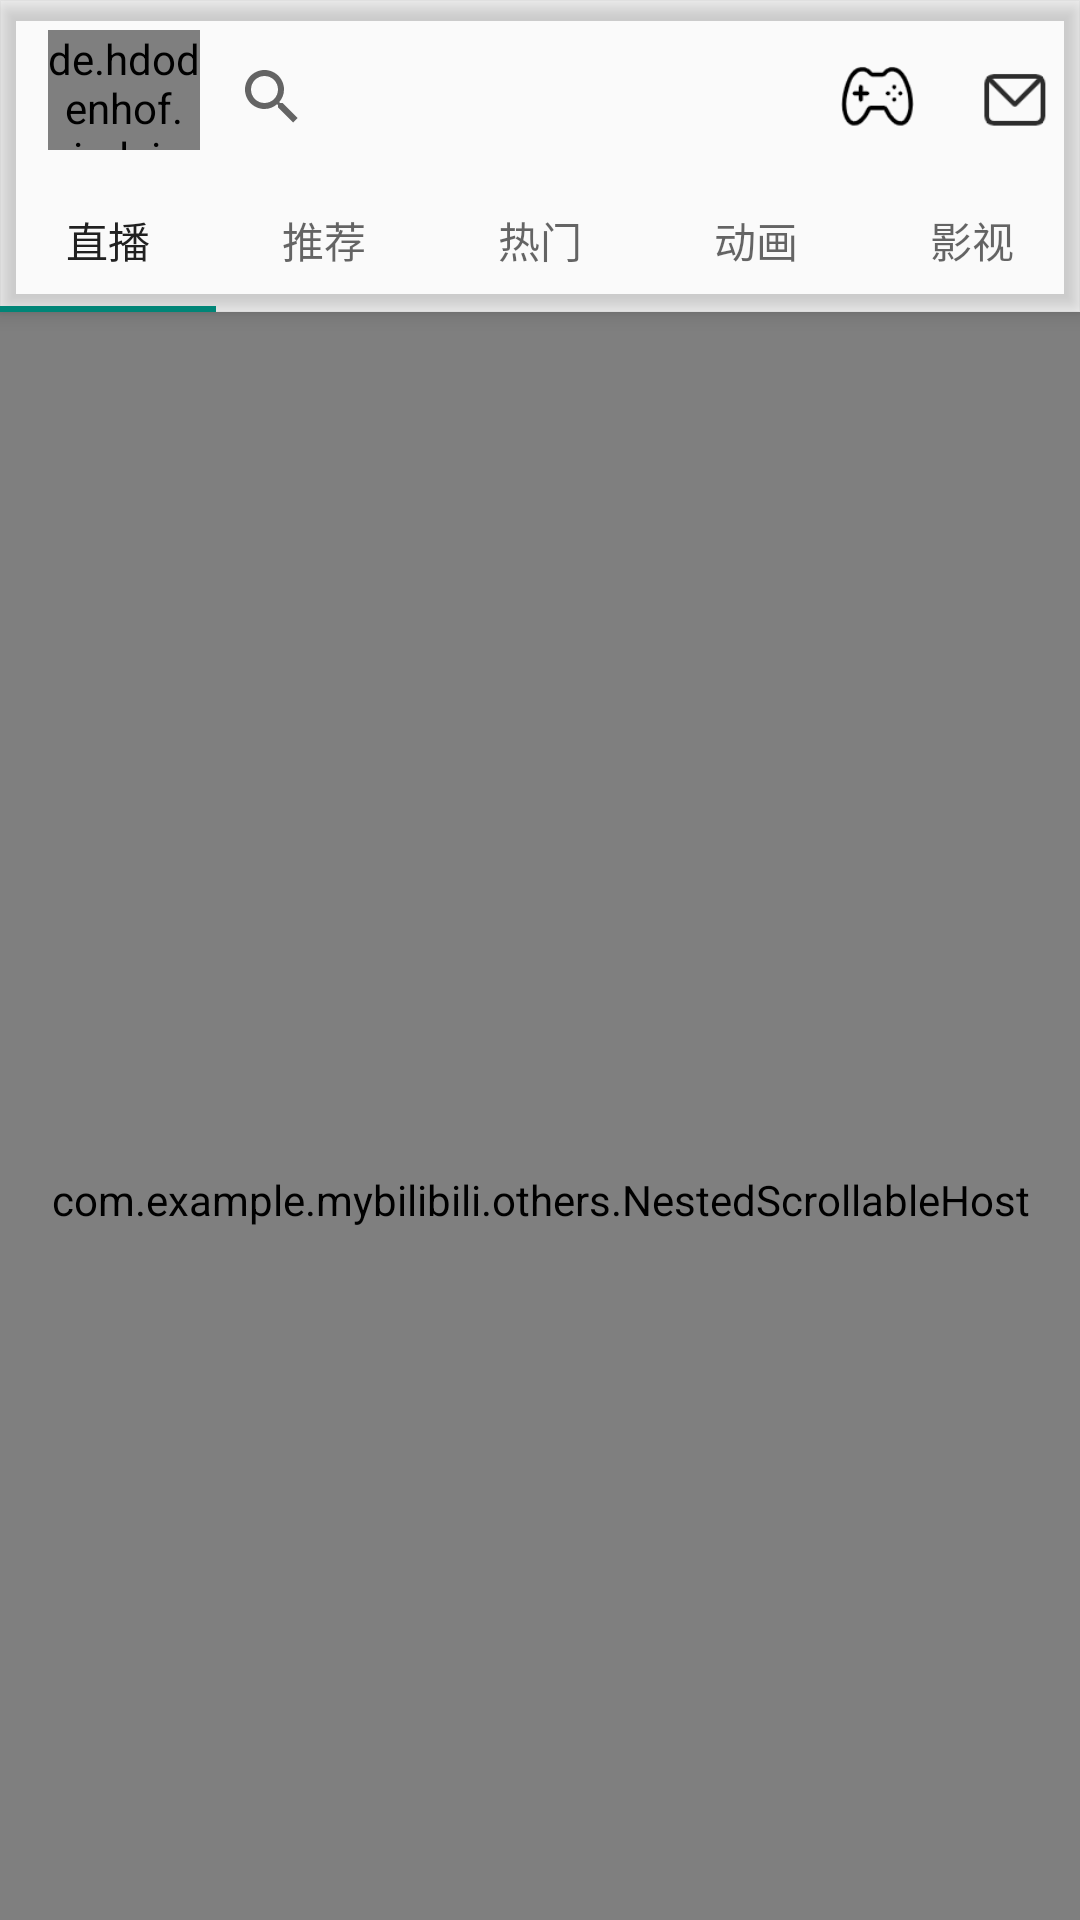

Screen size 1080 × 1920. Icon name, then its box in pixels as box=[x1, y1, x2, y2]:
game: box=[841, 67, 914, 126]
message: box=[984, 74, 1046, 126]
